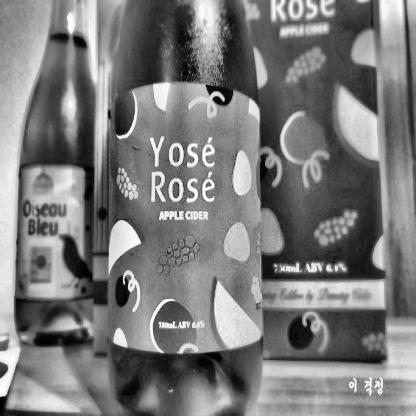yoserose: (111, 106, 257, 325)
